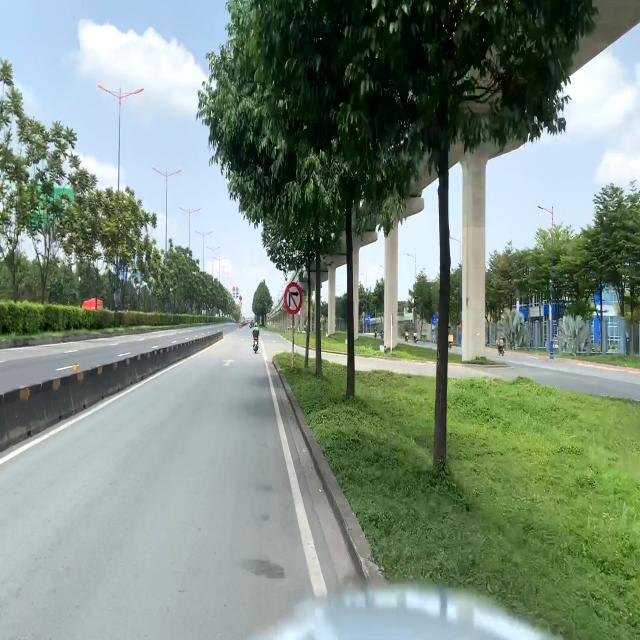P.123b: (284, 282, 302, 314)
P.130: (239, 296, 242, 300)
